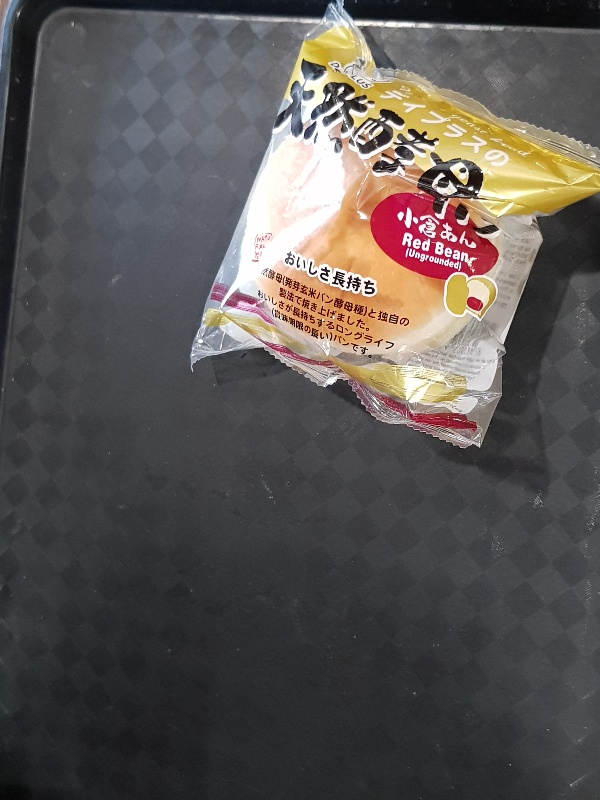Dayplus Red Bean: (190, 1, 600, 449)
